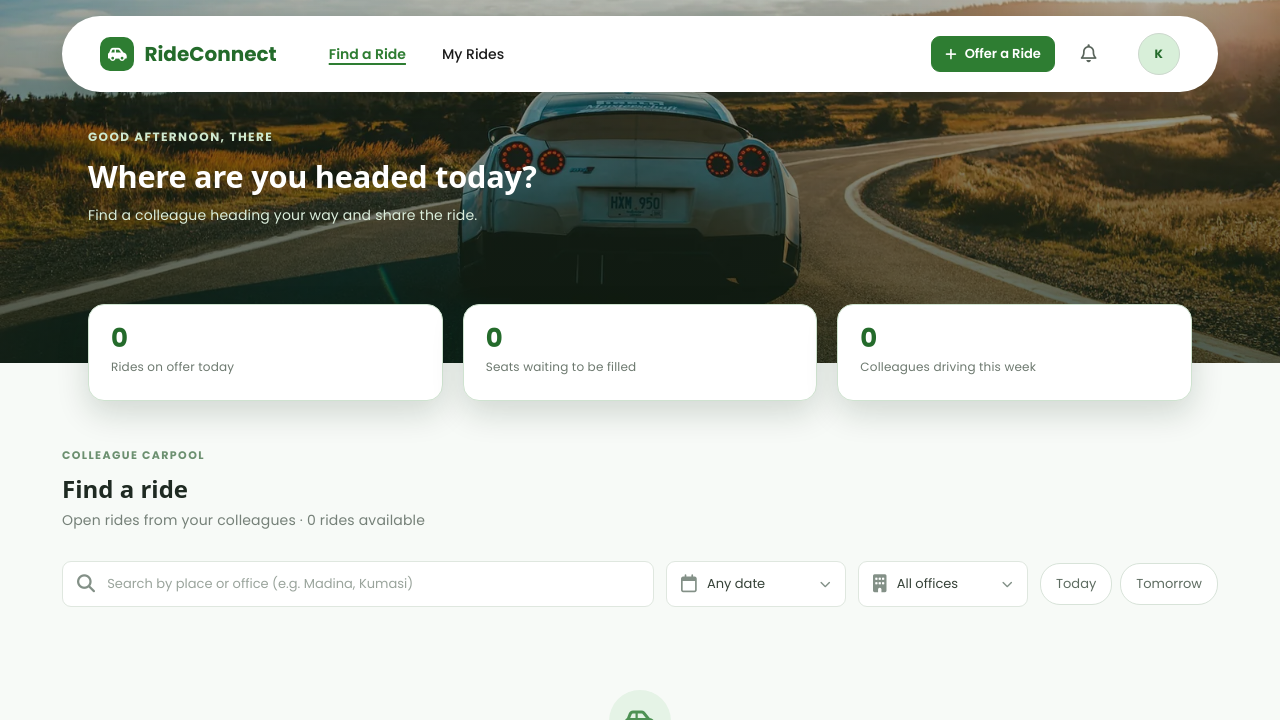
App › keeps one header mounted across every signed-in screen
expect the heading "Find a ride" is shown: met, box [62,472,188,505]
Click the button "My Rides" at (473,54), box [426,33,520,75]
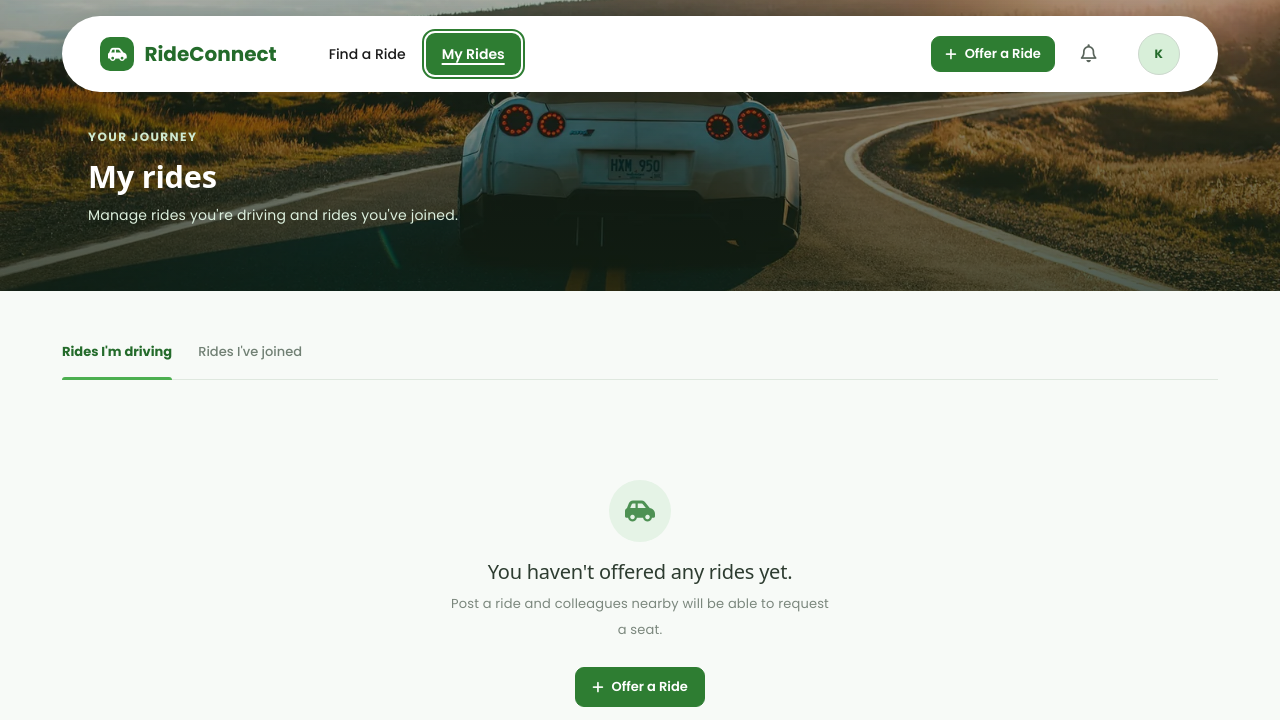
expect the heading "My rides" is shown: met, box [88,155,217,197]
Click the 1st button "Offer a Ride" at (993,54), box [931,36,1055,72]
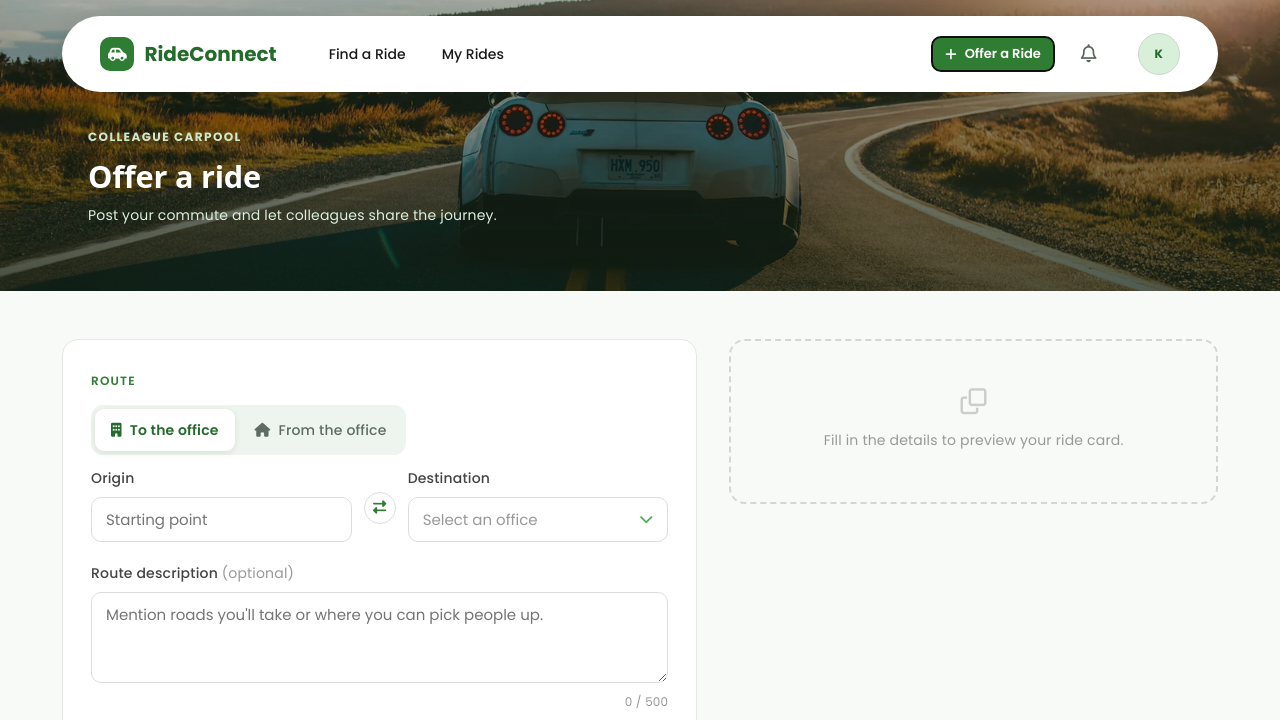
expect the heading "Offer a ride" is shown: met, box [88,155,261,197]
